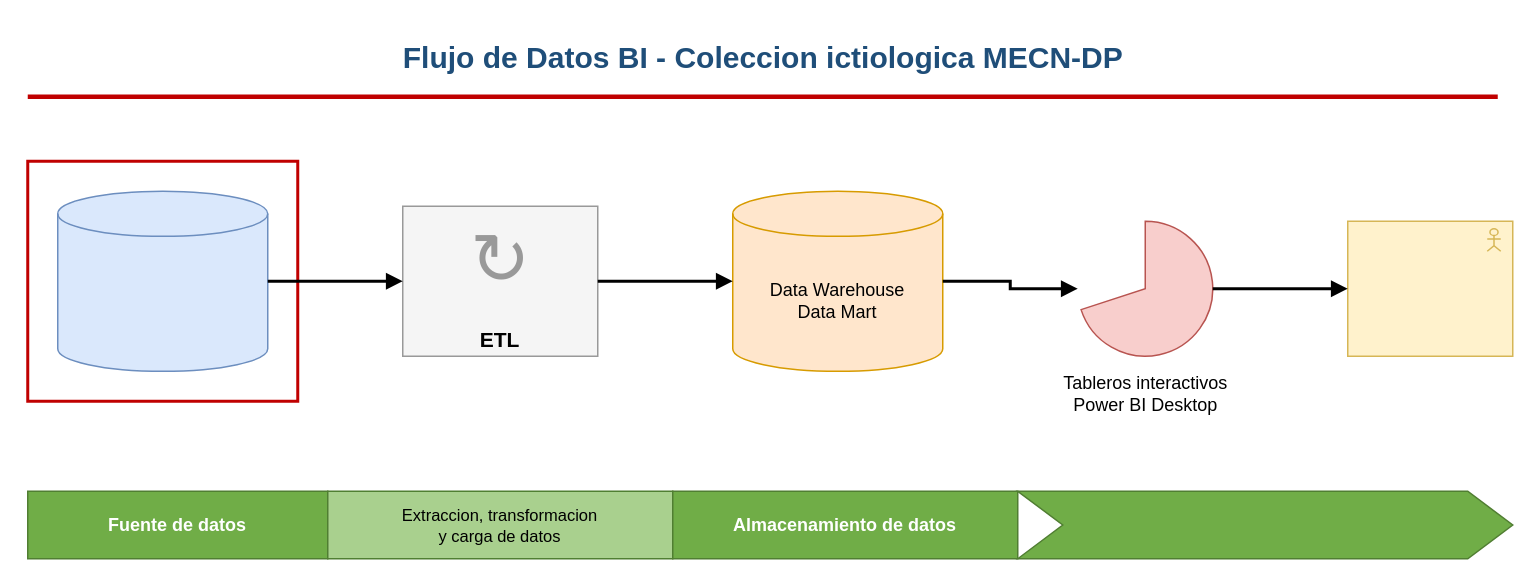
The diagram is 1539 pixels wide and 585 high, and some of its shapes have lost their labels. Each missing label, with the centre of its shape:
"Investigadores y curadores INABIO" belongs at (x=1429, y=288).
"Portal Symbiota BNDB - INABIO" belongs at (x=162, y=280).
"Reporteria de informacion" belongs at (x=1264, y=524).
